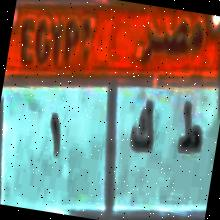1: (41, 108, 73, 170)
Taa: (171, 100, 209, 164)
kaaf: (122, 90, 166, 164)
